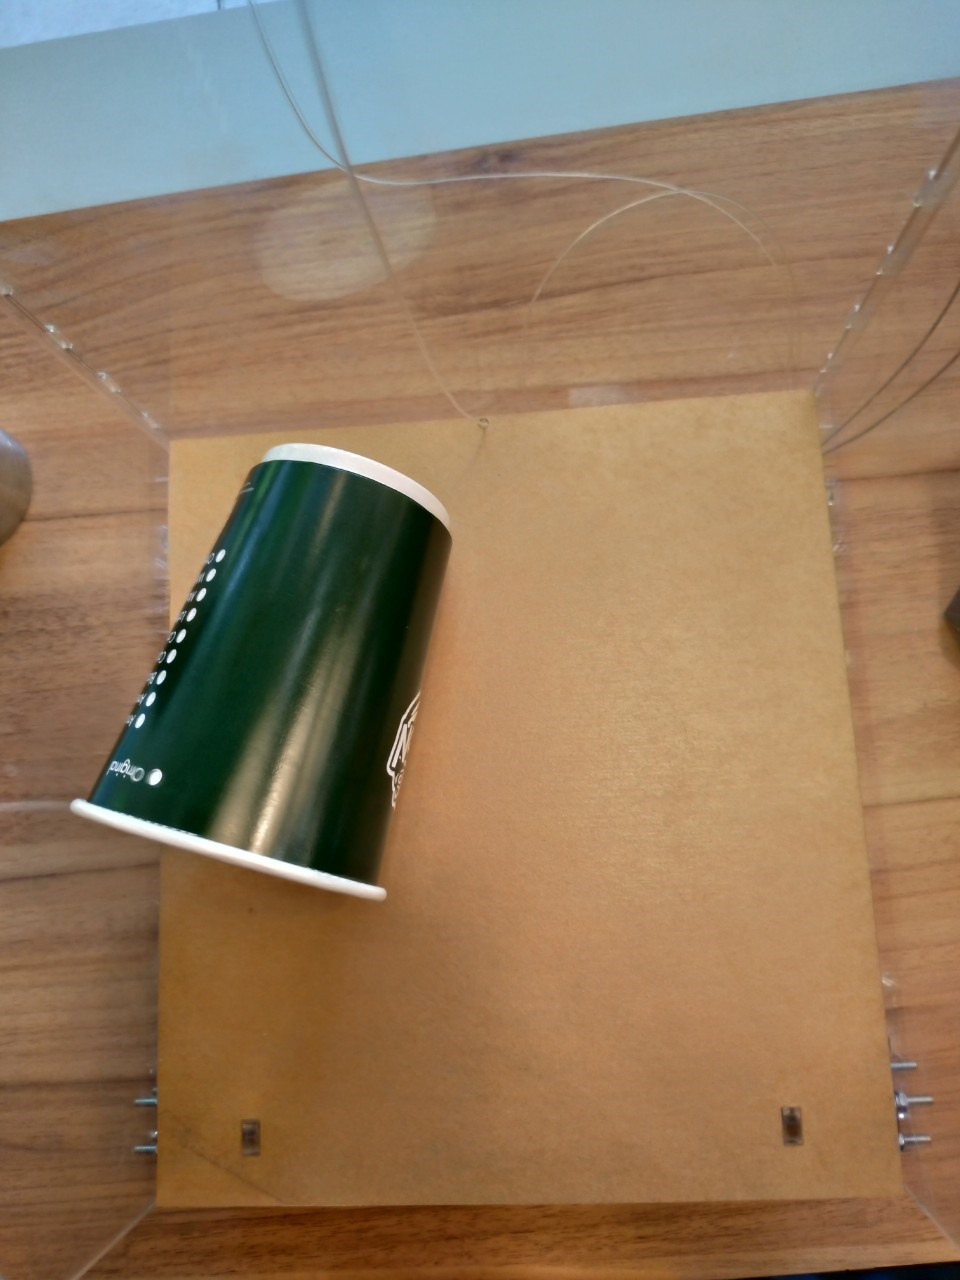PaperCup: (69, 439, 457, 898)
